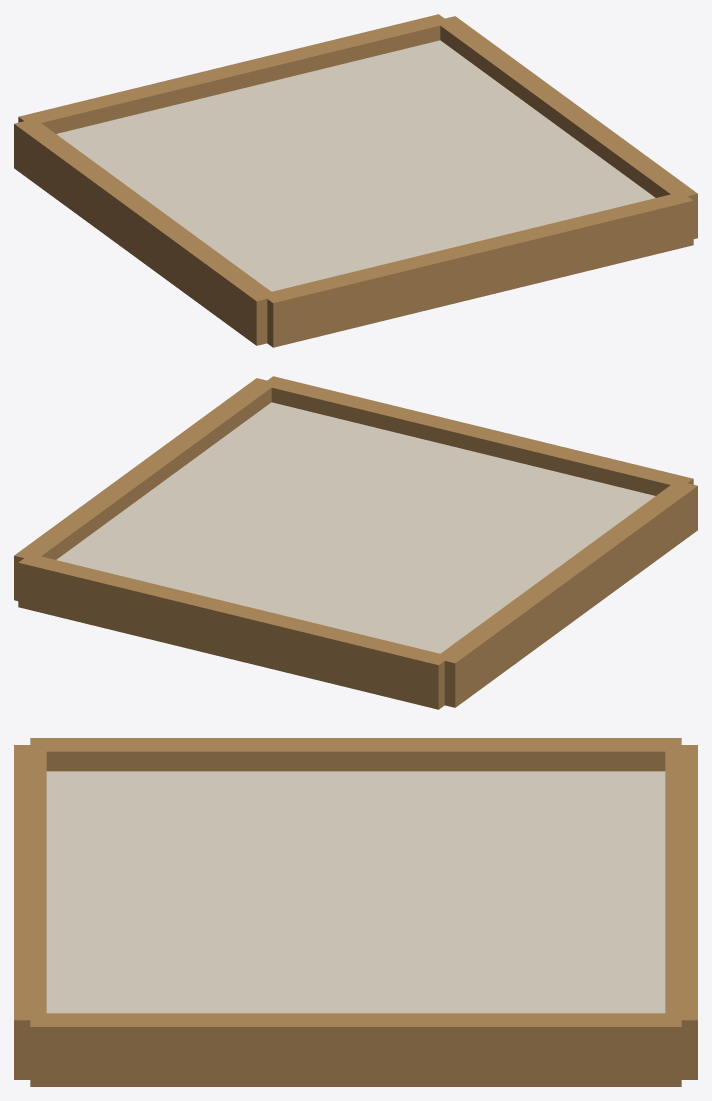
The model's file is school.play.sandpit.glb.
3 renders of one model, top to bottom at view 1: azimuth 30°, elevation 25°; view 2: azimuth 150°, elevation 25°; view 3: azimuth 270°, elevation 25°, orthographic. The views are drawn at different scales.
Visible parts, largest first — view 1: main__render, main__softwood; view 2: main__render, main__softwood; view 3: main__render, main__softwood.
Boxes of the visible parts, x1,y1,x2,y2 form: main__render: (56, 40, 655, 291); main__softwood: (14, 14, 697, 347); main__render: (56, 402, 655, 653); main__softwood: (14, 376, 697, 709); main__render: (46, 771, 665, 1013); main__softwood: (14, 738, 697, 1086).
Size of the model in its own units: 3.15 by 0.304 by 3.15.
